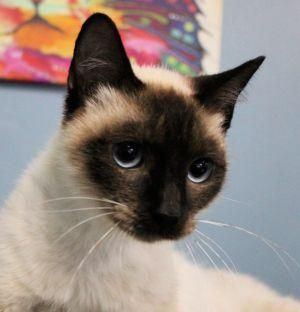siamese: (52, 4, 274, 251)
